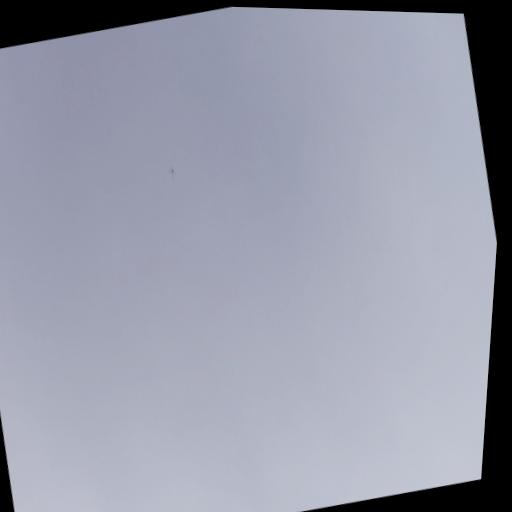drones: (166, 164, 177, 179)
